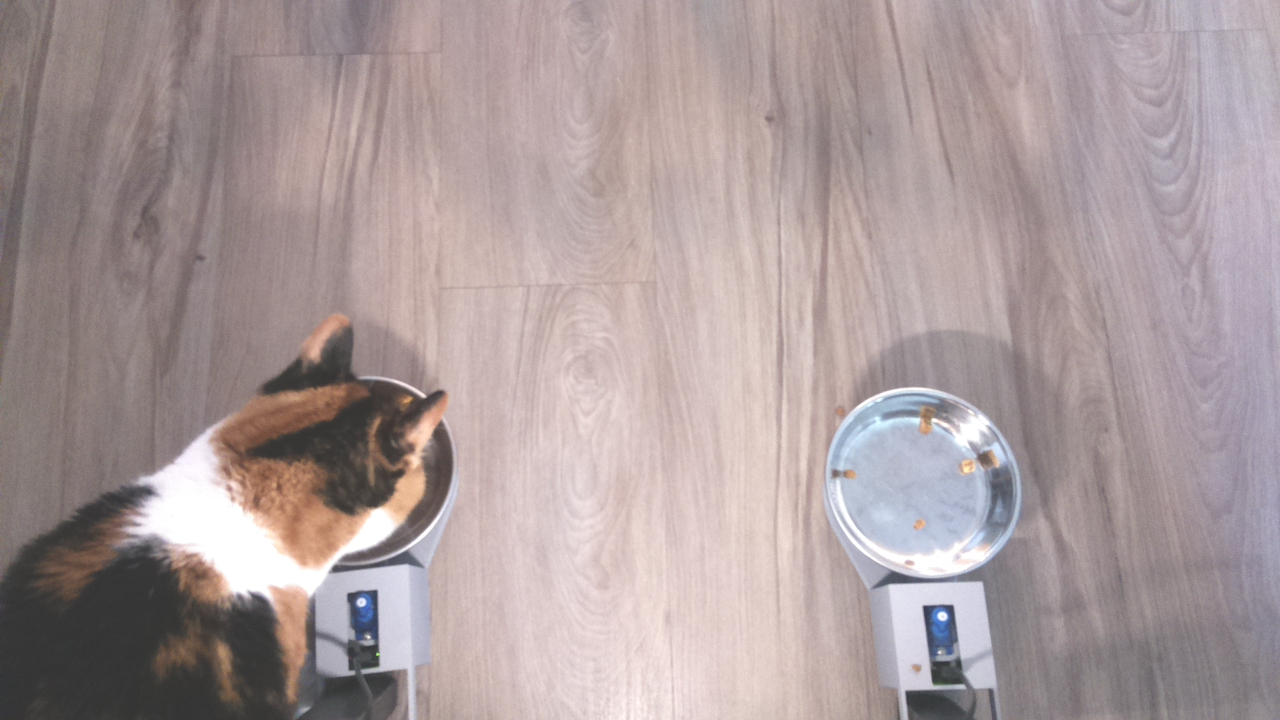bella_eating: (189, 305, 464, 582)
open_bowl: (822, 384, 1027, 582)
